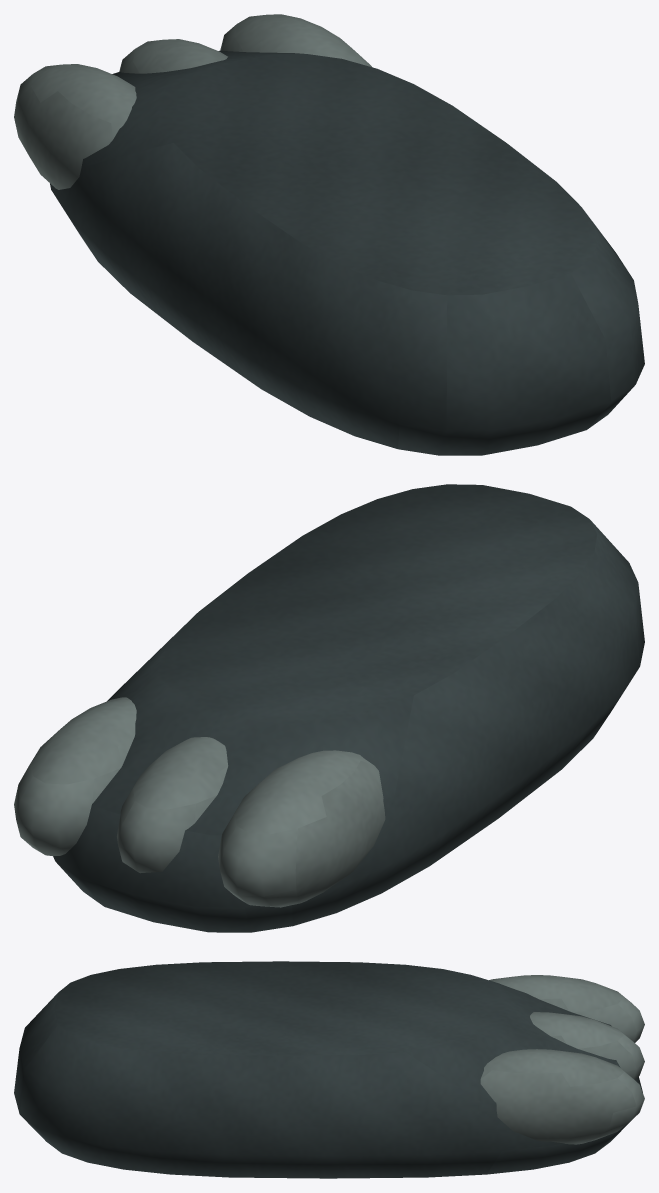
File: foot_l_lod0.glb
The picture shows the model from 3 angles, top to bottom: view 1: azimuth 30°, elevation 25°; view 2: azimuth 150°, elevation 25°; view 3: azimuth 270°, elevation 25°; orthographic projection. The views are drawn at different scales.
Visible parts, largest first — view 1: dormin_foot_l_LOD0; view 2: dormin_foot_l_LOD0; view 3: dormin_foot_l_LOD0.
Boxes of the visible parts, x1,y1,x2,y2 form: dormin_foot_l_LOD0: (14, 14, 644, 455); dormin_foot_l_LOD0: (14, 484, 644, 932); dormin_foot_l_LOD0: (14, 961, 644, 1178).
Bounding box in the file's own units: 1.62 × 0.69 × 3.45.
2 materials, 2 textured.
